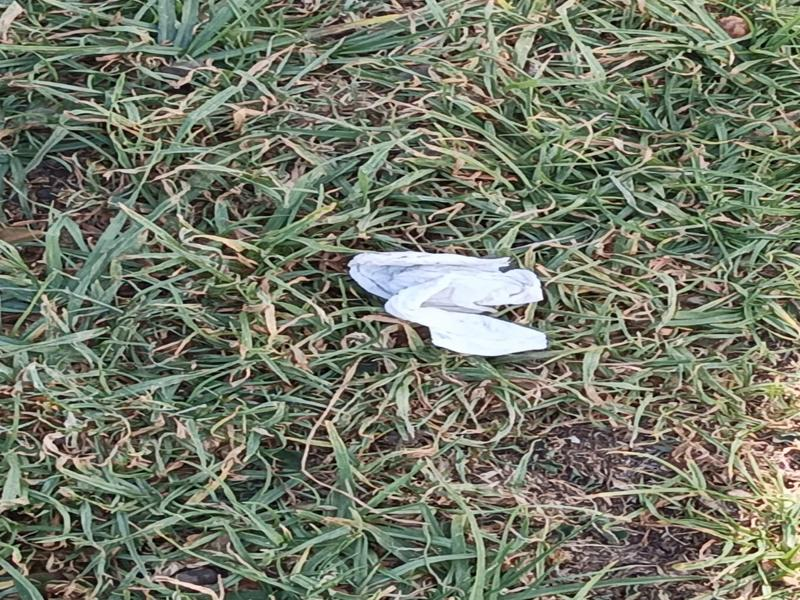papel: (347, 252, 548, 361)
